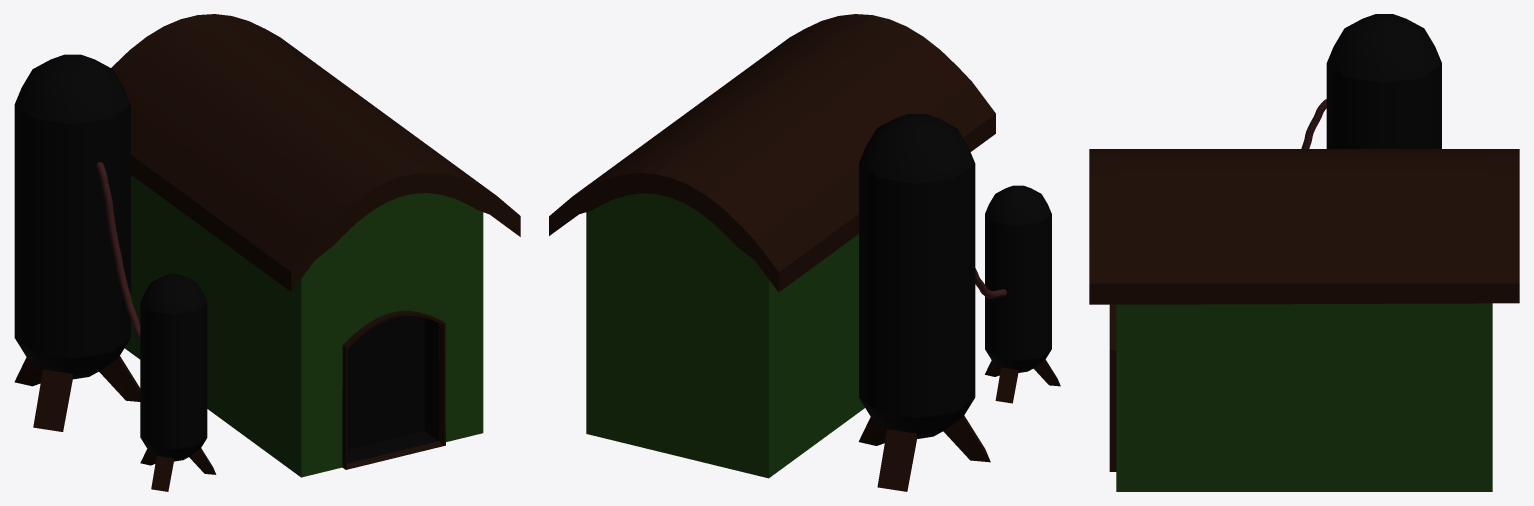
File: GreenSilo.FBX
The picture shows the model from 3 angles, left to right: view 1: azimuth 30°, elevation 25°; view 2: azimuth 150°, elevation 25°; view 3: azimuth 270°, elevation 25°; orthographic projection.
Visible parts, largest first — view 1: Box001; view 2: Box001; view 3: Box001.
Part boxes in pixels (<box>): Box001: <box>14,14,520,491</box>; Box001: <box>549,14,1060,491</box>; Box001: <box>1089,14,1519,491</box>.
Bounding box in the file's own units: 151 × 159 × 138.
